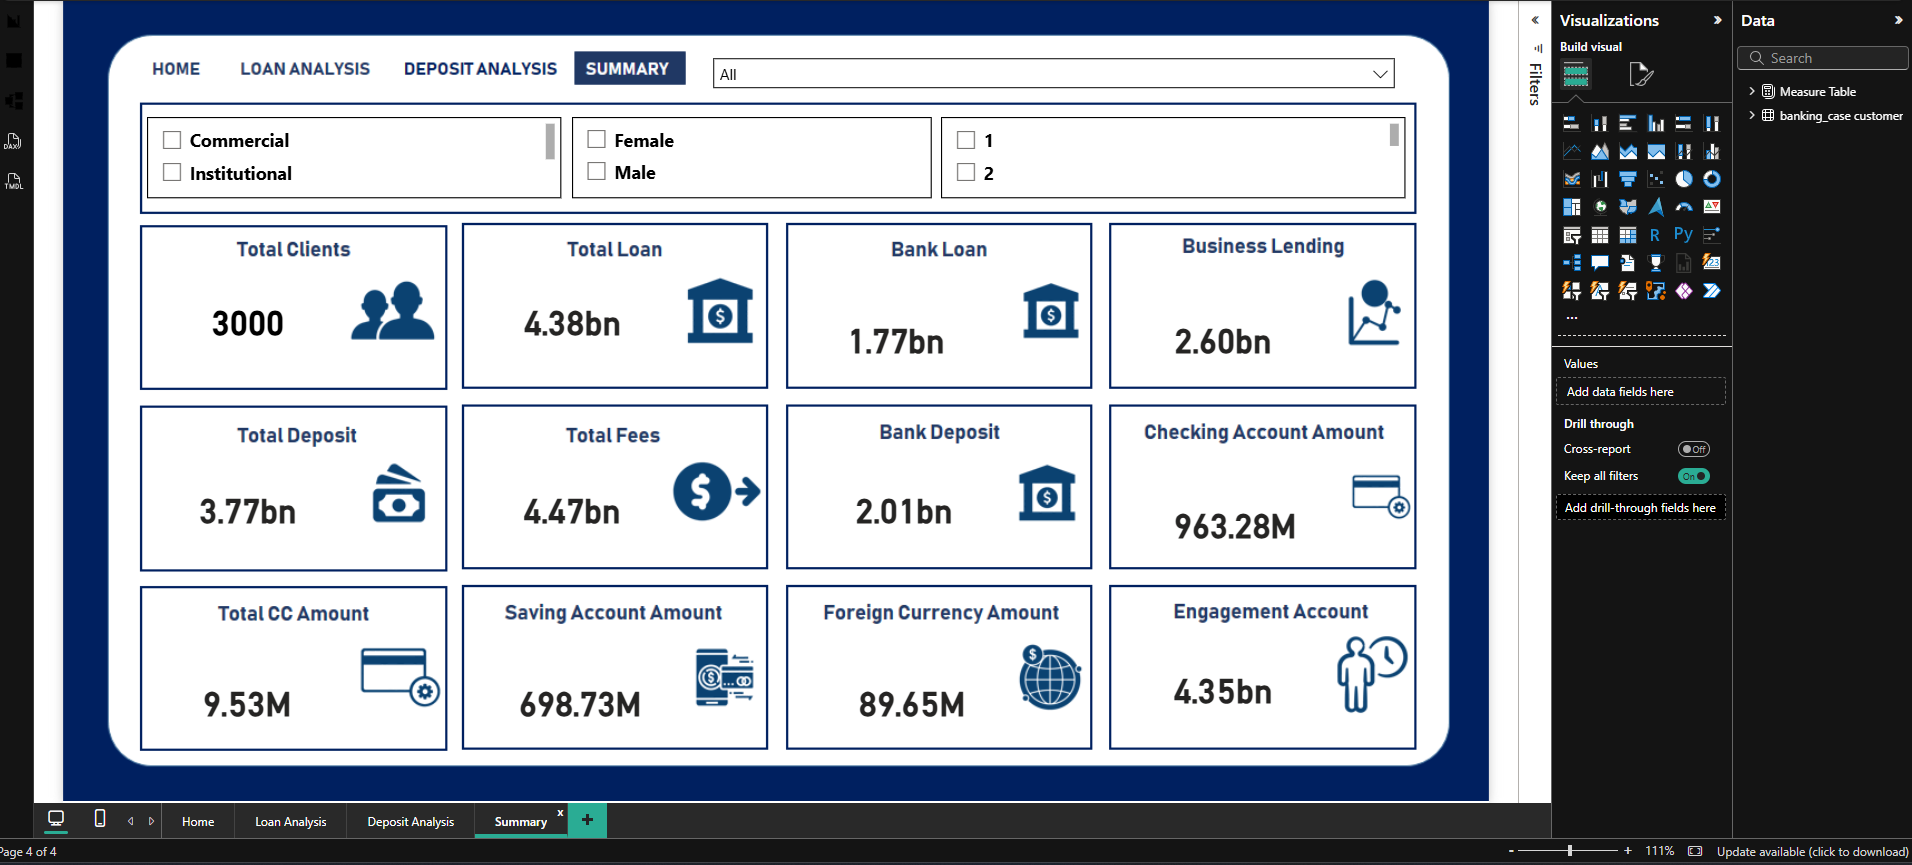

The dashboard page shown, as its layout file describes it:
{"tool":"powerbi","page":{"name":"Summary","canvas":[1280,720],"ordinal":3},"visuals":[{"type":"actionButton","box":[67.1,37.2,73.4,46.2],"z":0},{"type":"actionButton","box":[297.3,33.5,92.5,53.5],"z":1},{"type":"actionButton","box":[75.2,39,73.4,46.2],"z":2},{"type":"actionButton","box":[457.8,37.2,102.4,49.9],"z":3},{"type":"actionButton","box":[156.8,35.4,92.5,53.5],"z":4},{"type":"slicer","fields":{"Values":["banking_case customer.BRId"]},"box":[75.2,104.2,371.7,73.4],"z":5},{"type":"slicer","fields":{"Values":["banking_case customer.GenderId"]},"box":[456.9,104.2,322.7,73.4],"z":6},{"type":"slicer","fields":{"Values":["banking_case customer.IAId"]},"box":[788.7,104.2,417,73.4],"z":7},{"type":"cardVisual","fields":{"Data":["CountNonNull(banking_case customer.Name)"]},"box":[91.6,246.6,149.6,74.3],"z":8},{"type":"cardVisual","fields":{"Data":["Measure Table.Banking Loans"]},"box":[366.2,246.6,182.2,74.3],"z":9},{"type":"cardVisual","fields":{"Data":["Sum(banking_case customer.Bank Loans)"]},"box":[664.5,262.9,167.7,65.3],"z":10},{"type":"cardVisual","fields":{"Data":["Sum(banking_case customer.Business Lending)"]},"box":[958.2,262.9,167.7,64.4],"z":11},{"type":"cardVisual","fields":{"Data":["Measure Table.Total Deposit"]},"box":[82.5,416.1,167.7,61.6],"z":12},{"type":"cardVisual","fields":{"Data":["Sum(banking_case customer.Bank Deposits)"]},"box":[671.7,416.1,167.7,61.6],"z":13},{"type":"cardVisual","fields":{"Data":["Sum(banking_case customer.Checking Accounts)"]},"box":[969.1,428.8,167.7,61.6],"z":14},{"type":"cardVisual","fields":{"Data":["Sum(banking_case customer.Credit Card Balance)"]},"box":[81.6,589.2,167.7,64.4],"z":15},{"type":"cardVisual","fields":{"Data":["Sum(banking_case customer.Saving Accounts)"]},"box":[380.7,589.2,167.7,64.4],"z":16},{"type":"cardVisual","fields":{"Data":["Sum(banking_case customer.Foreign Currency Account)"]},"box":[679,589.2,167.7,64.4],"z":17},{"type":"slicer","fields":{"Values":["banking_case customer.Year Of Joining"]},"box":[573.8,41.7,631.8,38.1],"z":18},{"type":"cardVisual","fields":{"Data":["Measure Table.Engagement Account"]},"box":[958.2,577.5,167.7,61.6],"z":19},{"type":"cardVisual","fields":{"Data":["Measure Table.Total Fees"]},"box":[373.5,416.1,167.7,61.6],"z":20}]}

Visuals, with their boxes on the page's 1280x720 design canvas (x1, y1, x2, y2). These are canvas units, not pixel positions in the 1912x865 screenshot, which may show the page scaled, cropped or inside an application window:
actionButton: pyautogui.locateOnScreen(67, 37, 140, 83)
actionButton: pyautogui.locateOnScreen(297, 34, 390, 87)
actionButton: pyautogui.locateOnScreen(75, 39, 149, 85)
actionButton: pyautogui.locateOnScreen(458, 37, 560, 87)
actionButton: pyautogui.locateOnScreen(157, 35, 249, 89)
slicer - banking_case customer.BRId: pyautogui.locateOnScreen(75, 104, 447, 178)
slicer - banking_case customer.GenderId: pyautogui.locateOnScreen(457, 104, 780, 178)
slicer - banking_case customer.IAId: pyautogui.locateOnScreen(789, 104, 1206, 178)
cardVisual - CountNonNull(banking_case customer.Name): pyautogui.locateOnScreen(92, 247, 241, 321)
cardVisual - Measure Table.Banking Loans: pyautogui.locateOnScreen(366, 247, 548, 321)
cardVisual - Sum(banking_case customer.Bank Loans): pyautogui.locateOnScreen(664, 263, 832, 328)
cardVisual - Sum(banking_case customer.Business Lending): pyautogui.locateOnScreen(958, 263, 1126, 327)
cardVisual - Measure Table.Total Deposit: pyautogui.locateOnScreen(82, 416, 250, 478)
cardVisual - Sum(banking_case customer.Bank Deposits): pyautogui.locateOnScreen(672, 416, 839, 478)
cardVisual - Sum(banking_case customer.Checking Accounts): pyautogui.locateOnScreen(969, 429, 1137, 490)
cardVisual - Sum(banking_case customer.Credit Card Balance): pyautogui.locateOnScreen(82, 589, 249, 654)
cardVisual - Sum(banking_case customer.Saving Accounts): pyautogui.locateOnScreen(381, 589, 548, 654)
cardVisual - Sum(banking_case customer.Foreign Currency Account): pyautogui.locateOnScreen(679, 589, 847, 654)
slicer - banking_case customer.Year Of Joining: pyautogui.locateOnScreen(574, 42, 1206, 80)
cardVisual - Measure Table.Engagement Account: pyautogui.locateOnScreen(958, 578, 1126, 639)
cardVisual - Measure Table.Total Fees: pyautogui.locateOnScreen(374, 416, 541, 478)
